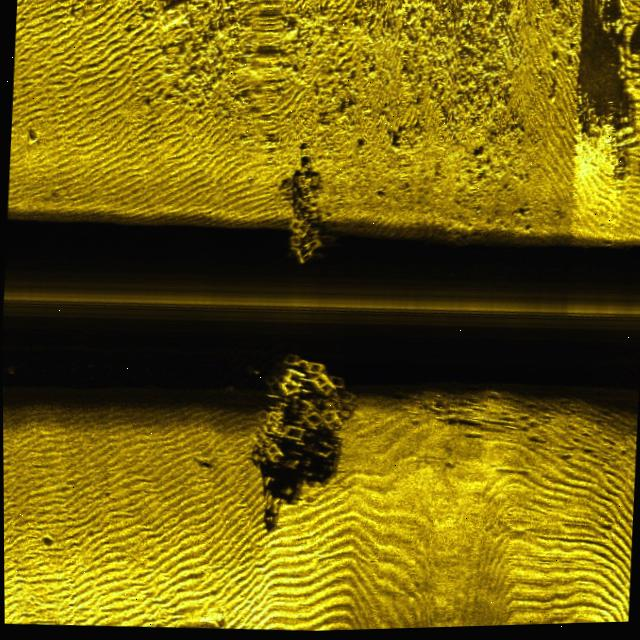artificial reef: (233, 340, 357, 479), (265, 169, 339, 281)
